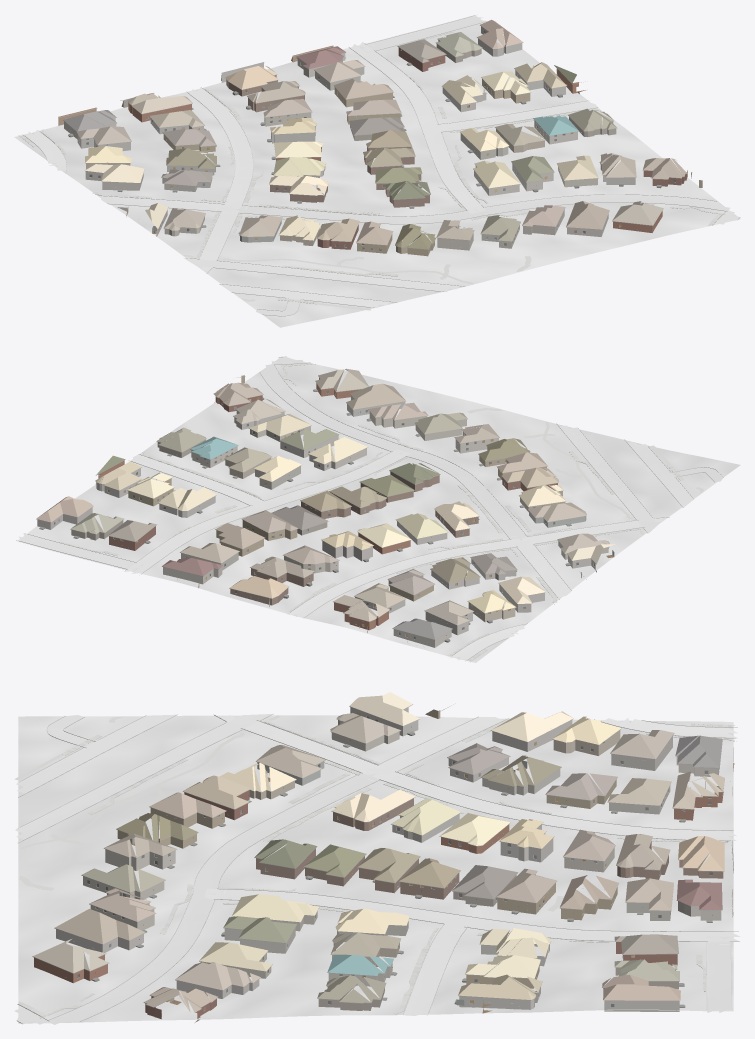
3 views of the same model, one above another, from view 1: azimuth 30°, elevation 25°; view 2: azimuth 150°, elevation 25°; view 3: azimuth 270°, elevation 25° (orthographic). The views are drawn at different scales.
Parts seen in each view (by area): view 1: ground, roof, concrete, wall, wall_stucco, wall_stone, curb, walk, detail, asphalt; view 2: ground, roof, concrete, wall, wall_stucco, wall_stone, detail, walk, curb, asphalt, glass; view 3: ground, roof, concrete, wall, wall_stone, wall_stucco, walk, curb, asphalt, detail, glass.
Part boxes in pixels (x1,y1,x2,y2): ground: [14, 15, 740, 327]; roof: [63, 19, 686, 249]; concrete: [26, 16, 739, 315]; wall: [58, 40, 702, 256]; wall_stucco: [64, 53, 597, 250]; wall_stone: [77, 26, 635, 236]; curb: [22, 15, 740, 316]; walk: [19, 31, 725, 310]; detail: [58, 25, 687, 250]; asphalt: [184, 258, 457, 308]; ground: [17, 356, 740, 662]; roof: [36, 368, 615, 639]; concrete: [18, 357, 723, 660]; wall: [71, 375, 581, 632]; wall_stucco: [163, 411, 608, 647]; wall_stone: [37, 395, 596, 635]; detail: [36, 376, 609, 647]; walk: [59, 363, 703, 661]; curb: [16, 356, 723, 662]; asphalt: [559, 425, 693, 533]; glass: [54, 391, 594, 639]; ground: [18, 715, 733, 1023]; roof: [33, 692, 724, 1012]; concrete: [14, 715, 740, 1024]; wall: [34, 709, 734, 1022]; wall_stone: [56, 707, 733, 1011]; wall_stucco: [83, 720, 721, 986]; walk: [14, 715, 734, 1018]; curb: [16, 714, 739, 1023]; asphalt: [15, 714, 272, 839]; detail: [32, 703, 733, 1016]; glass: [77, 716, 712, 1007].
Size of the model in its own units: 261 by 14.96 by 254.
